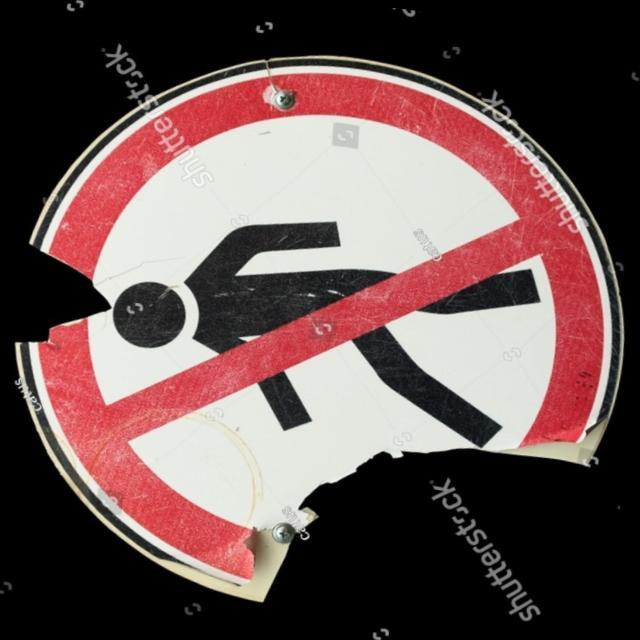obstructed_road_sign: (18, 58, 622, 601)
